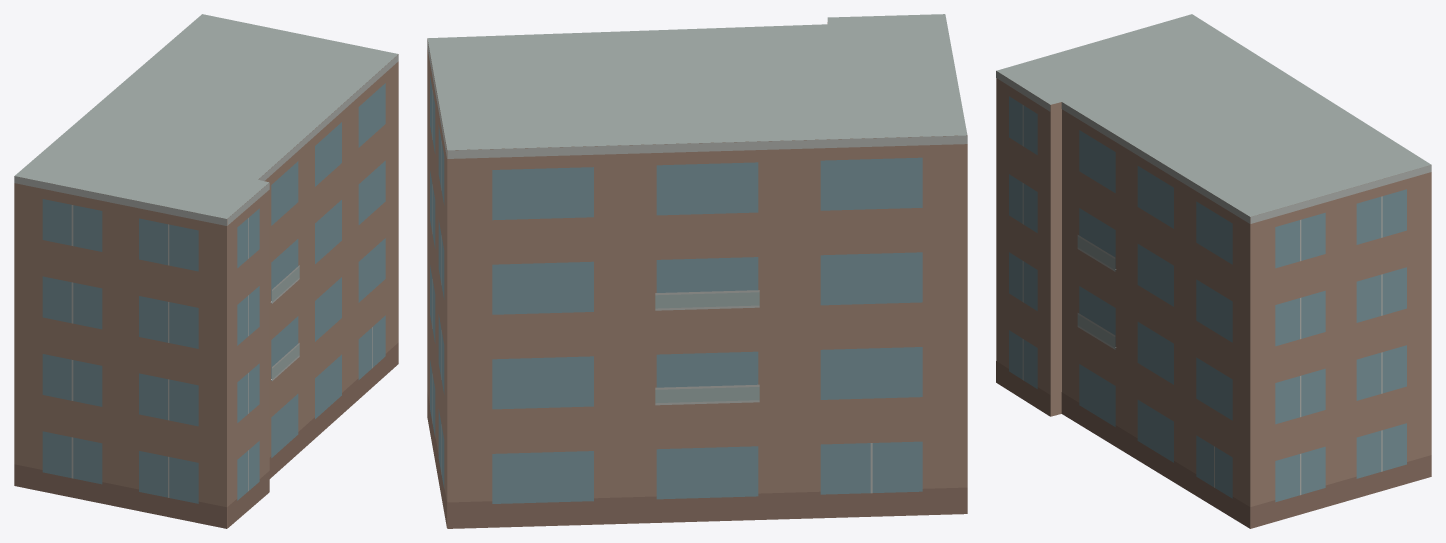
The model's file is survey-upis-32689251.glb.
The picture shows the model from 3 angles, left to right: view 1: azimuth 30°, elevation 25°; view 2: azimuth 150°, elevation 25°; view 3: azimuth 270°, elevation 25°; orthographic projection. The views are drawn at different scales.
Parts seen in each view (by area): view 1: survey-upis-32689251.tmp; view 2: survey-upis-32689251.tmp; view 3: survey-upis-32689251.tmp.
Part boxes in pixels (left/top/right/bottom): survey-upis-32689251.tmp: left=14, top=14, right=398, bottom=528; survey-upis-32689251.tmp: left=427, top=14, right=967, bottom=528; survey-upis-32689251.tmp: left=996, top=14, right=1431, bottom=528.
Size of the model in its own units: 14.87 by 10.65 by 13.48.
